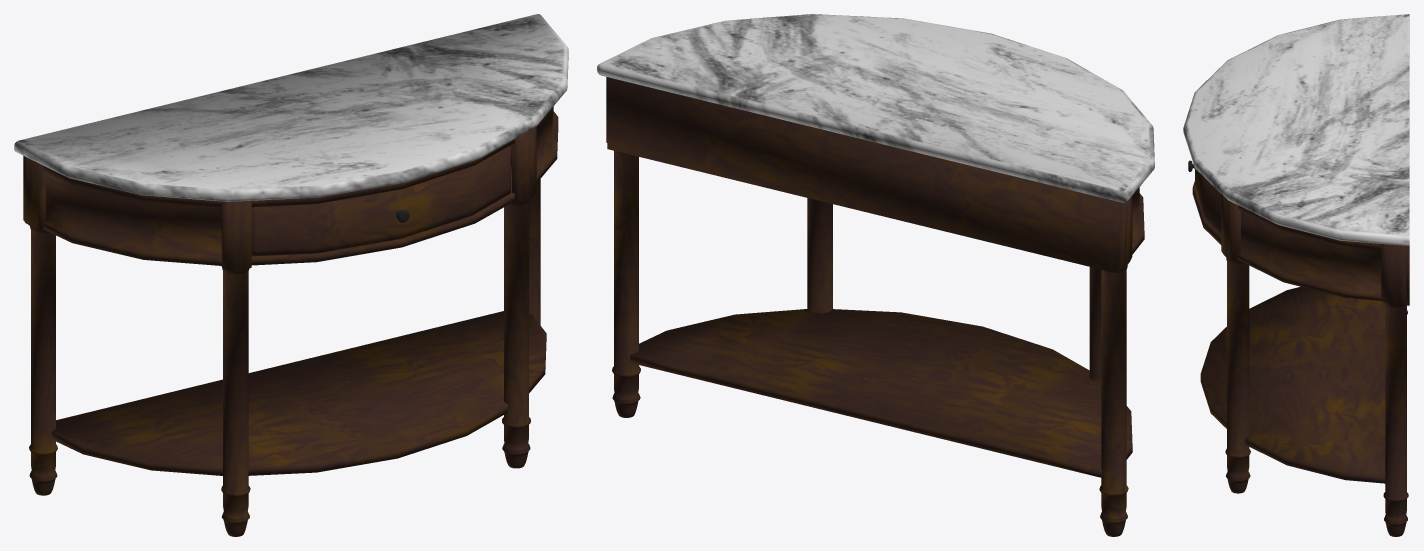
The model's file is console_table.glb.
3 views of the same model, side by side, from view 1: azimuth 30°, elevation 25°; view 2: azimuth 150°, elevation 25°; view 3: azimuth 270°, elevation 25° (orthographic). The views are drawn at different scales.
Parts seen in each view (by area): view 1: ConsoleTable; view 2: ConsoleTable; view 3: ConsoleTable.
Part boxes in pixels (x1,y1,x2,y2): ConsoleTable: [14, 14, 568, 536]; ConsoleTable: [597, 14, 1154, 536]; ConsoleTable: [1183, 14, 1409, 536].
Bounding box in the file's own units: 1.22 × 0.7738 × 0.5197.
1 material, 1 textured.
